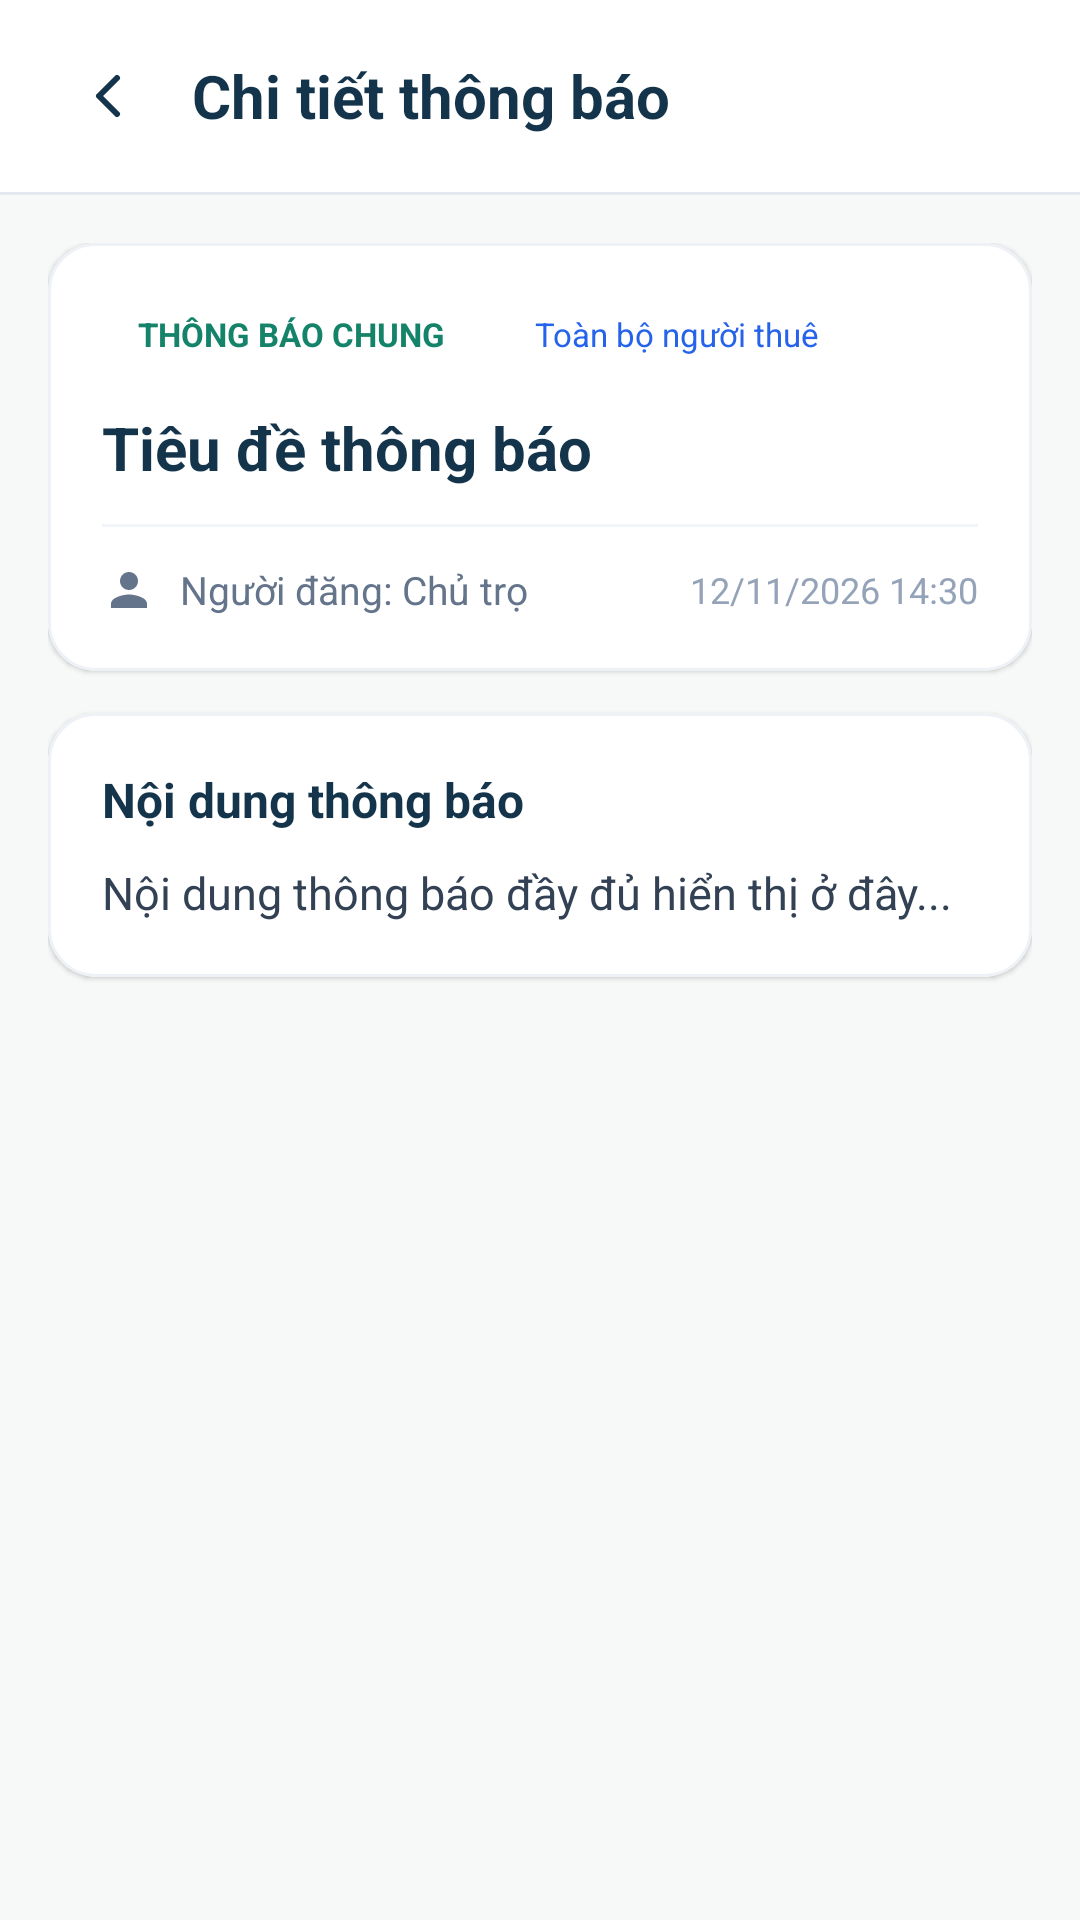

Where to tap for icons on this 1080*1920 app screen, as (x=x, y=y):
Quay lại: (x=108, y=96)
user: (x=129, y=590)
